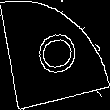O_W: (29, 28, 81, 82)
